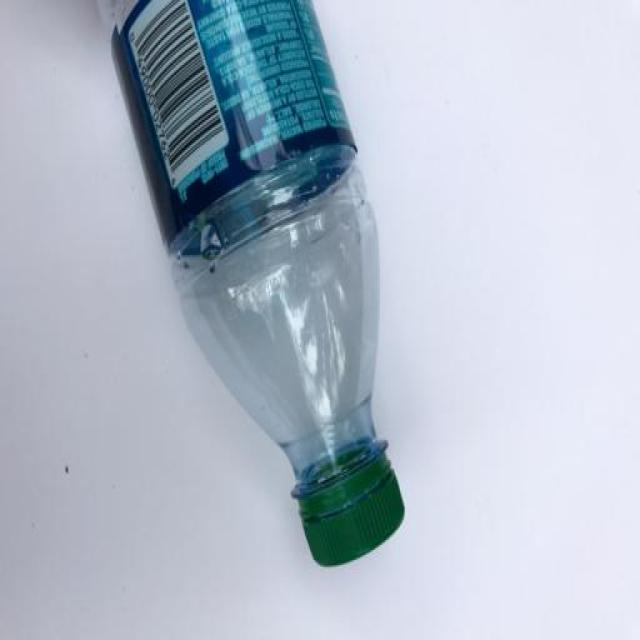Plastic: (96, 0, 406, 567)
